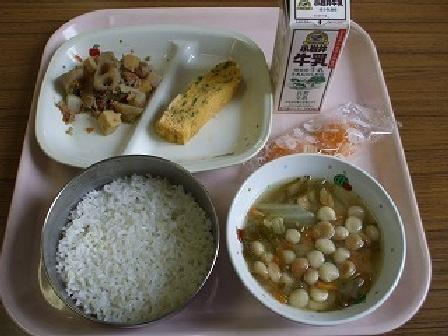Bread: (153, 52, 257, 144)
Milk: (272, 0, 357, 111)
Rice: (44, 156, 224, 325)
Soups: (237, 169, 399, 312)
vegetable based cooked food: (42, 35, 151, 135)
